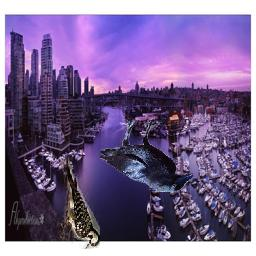Crow: (101, 118, 194, 193)
Woodpecker: (60, 157, 100, 249)
